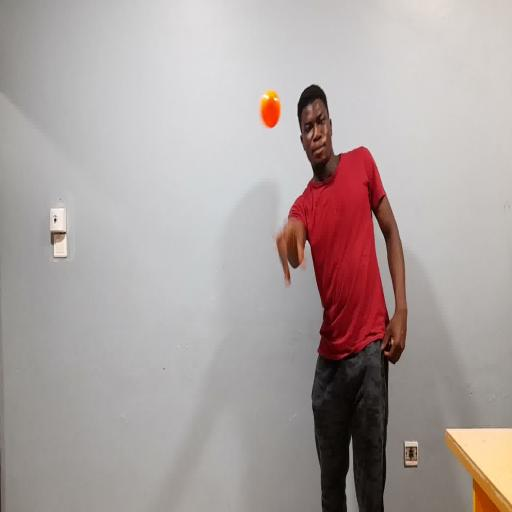plastic-ball: (258, 85, 286, 133)
